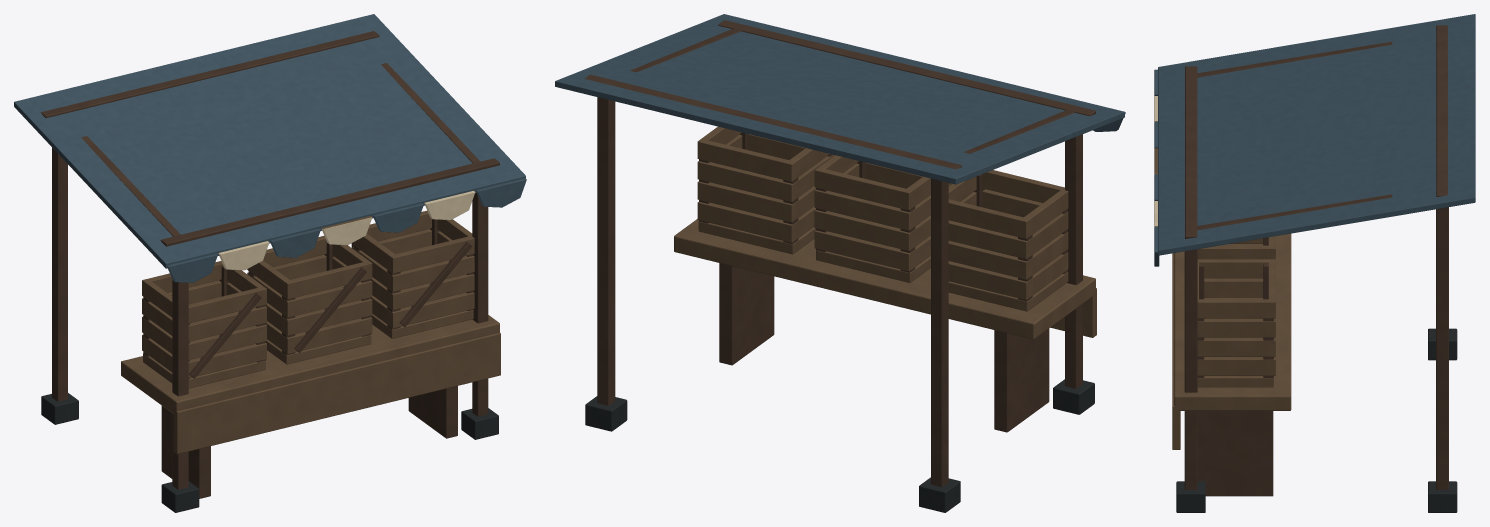
Rendered from Fish_Stall.fbx.
3 views of the same model, side by side, from view 1: azimuth 30°, elevation 25°; view 2: azimuth 150°, elevation 25°; view 3: azimuth 270°, elevation 25° (orthographic). The views are drawn at different scales.
Parts seen in each view (by area): view 1: Fish_Stall.001; view 2: Fish_Stall.001; view 3: Fish_Stall.001.
Part boxes in pixels (x1=…): Fish_Stall.001: x1=14, y1=14, x2=526, y2=512; Fish_Stall.001: x1=555, y1=14, x2=1125, y2=512; Fish_Stall.001: x1=1154, y1=14, x2=1475, y2=512.
Bounding box in the file's own units: 3.56 × 2.94 × 2.63.
